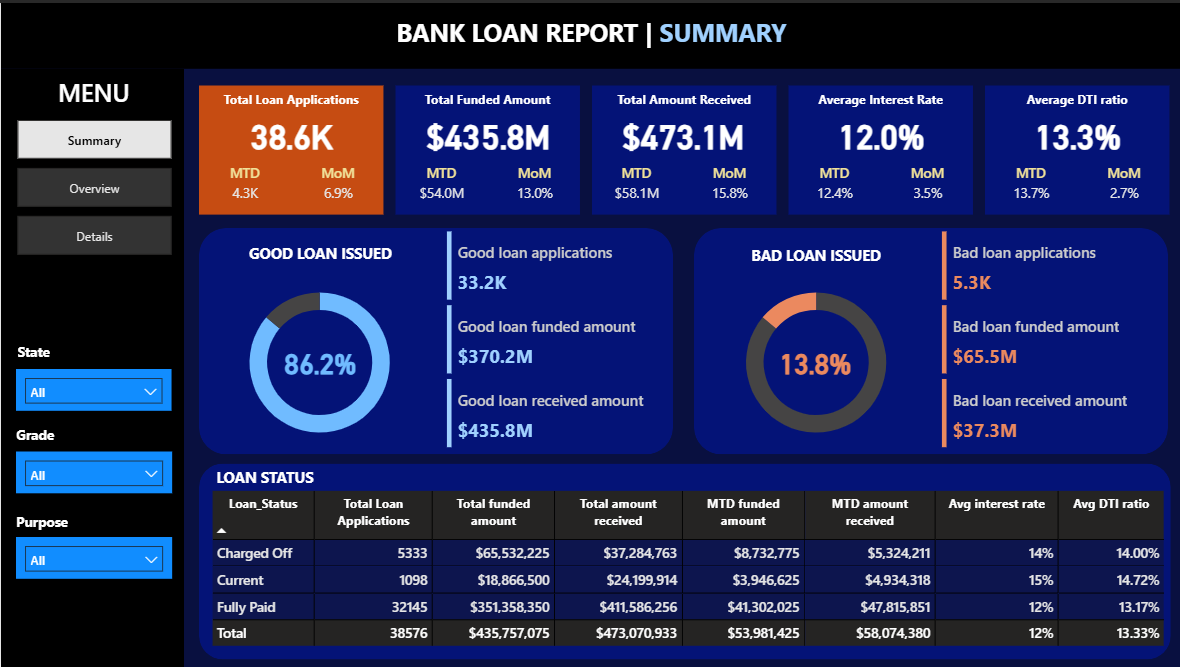

The dashboard page shown, as its layout file describes it:
{"tool":"powerbi","page":{"name":"Summary","canvas":[1280,720],"ordinal":0},"visuals":[{"type":"shape","box":[0,0,1280.1,71.6],"z":0},{"type":"shape","box":[0,71.6,198.4,649],"z":1000},{"type":"textbox","box":[366,8.1,548.1,53.7],"z":2000},{"type":"textbox","box":[214.3,89.2,200,140],"z":3000},{"type":"card","fields":{"Values":["bankdata loandata.Total Loan Applications"]},"box":[225.5,118,177.5,46.2],"z":4000},{"type":"card","title":"MTD","fields":{"Values":["bankdata loandata.MTD loan applications"]},"box":[225.5,173.8,76.7,46.7],"z":5000},{"type":"card","title":"MoM","fields":{"Values":["bankdata loandata.MoM loan applications"]},"box":[326.4,173.8,76.7,46.7],"z":6000},{"type":"textbox","box":[428,89.3,200,140],"z":7000},{"type":"card","fields":{"Values":["bankdata loandata.Total funded amount"]},"box":[439.7,118,177.5,46.7],"z":8000},{"type":"card","title":"MTD","fields":{"Values":["bankdata loandata.MTD funded amount"]},"box":[439.7,173.8,76.7,46.7],"z":9000},{"type":"card","title":"MoM","fields":{"Values":["bankdata loandata.MoM funded amount"]},"box":[540.5,173.8,76.7,46.7],"z":10000},{"type":"textbox","box":[640.5,89.4,200,140],"z":11000},{"type":"textbox","box":[853.9,89.5,200,140],"z":12000},{"type":"textbox","box":[1067.2,89.6,200,140],"z":13000},{"type":"card","fields":{"Values":["bankdata loandata.Total amount received"]},"box":[651.4,118,177.5,46.7],"z":14000},{"type":"card","fields":{"Values":["bankdata loandata.Avg interest rate"]},"box":[864.7,118,177.5,46.7],"z":15000},{"type":"card","fields":{"Values":["bankdata loandata.Avg dti ratio"]},"box":[1078,118,177.5,46.7],"z":16000},{"type":"card","title":"MTD","fields":{"Values":["bankdata loandata.MTD amount received"]},"box":[651.4,173.8,76.7,46.7],"z":17000},{"type":"card","title":"MoM","fields":{"Values":["bankdata loandata.MoM amount received"]},"box":[752.2,173.8,76.7,46.7],"z":18000},{"type":"card","title":"MTD","fields":{"Values":["bankdata loandata.MTD interest rate"]},"box":[864.7,173.8,76.7,46.7],"z":19000},{"type":"card","title":"MTD","fields":{"Values":["bankdata loandata.MTD dti"]},"box":[1078,173.8,76.7,46.7],"z":20000},{"type":"card","title":"MoM","fields":{"Values":["bankdata loandata.MoM interest rate"]},"box":[965.5,173.8,76.7,46.7],"z":21000},{"type":"card","title":"MoM","fields":{"Values":["bankdata loandata.MoM"]},"box":[1178.9,173.8,76.7,46.7],"z":22000},{"type":"shape","box":[214.3,243.4,514,245.6],"z":23000},{"type":"shape","box":[751,243.4,514,245.6],"z":24000},{"type":"donutChart","fields":{"Category":["bankdata loandata.Good vs Bad loan"],"Y":["bankdata loandata.Total Loan Applications"]},"box":[213.8,288.8,264.3,200],"z":25000},{"type":"card","fields":{"Values":["bankdata loandata.Good loan %"]},"box":[299.6,366,92.9,45.7],"z":26000},{"type":"textbox","box":[233.8,256,224.3,32.9],"z":27000},{"type":"textbox","box":[771,257.4,225.7,31.4],"z":28000},{"type":"cardVisual","fields":{"Data":["bankdata loandata.Good loan applications","bankdata loandata.Good loan funded amt","bankdata loandata.Good loan received amt"]},"box":[478.1,243.1,250,245.7],"z":29000},{"type":"donutChart","fields":{"Category":["bankdata loandata.Good vs Bad loan"],"Y":["bankdata loandata.Total Loan Applications"]},"box":[751,288.8,264.3,200],"z":30000},{"type":"card","fields":{"Values":["bankdata loandata.Bad loan %"]},"box":[836.7,366,92.9,45.7],"z":31000},{"type":"cardVisual","fields":{"Data":["bankdata loandata.Bad loan applications","bankdata loandata.Bad loan funded amt","bankdata loandata.Bad loan received amt"]},"box":[1015.3,243.1,250,245.7],"z":32000},{"type":"shape","box":[215,500,1053.8,212.5],"z":33000},{"type":"tableEx","fields":{"Values":["bankdata loandata.Loan_Status","bankdata loandata.Total Loan Applications","bankdata loandata.Total funded amount","bankdata loandata.Total amount received","bankdata loandata.MTD funded amount","bankdata loandata.MTD amount received","bankdata loandata.Avg interest rate","bankdata loandata.Avg dti ratio"]},"box":[226.2,527.5,1040,176.2],"z":34000},{"type":"textbox","box":[221.2,497.5,130,32.5],"z":35000},{"type":"slicer","title":"State","fields":{"Values":["bankdata loandata.Address_State"]},"box":[16.7,396.7,168.3,45],"z":36000},{"type":"textbox","box":[12.7,362.7,123.6,33.6],"z":37000},{"type":"slicer","title":"State","fields":{"Values":["bankdata loandata.Grade"]},"box":[16.4,486.4,169.1,45.5],"z":38000},{"type":"textbox","box":[11.8,452.7,123.6,33.6],"z":39000},{"type":"slicer","title":"State","fields":{"Values":["bankdata loandata.Purpose"]},"box":[16.7,579.4,169.1,45.5],"z":40000},{"type":"textbox","box":[12.1,545.8,123.6,33.6],"z":41000},{"type":"textbox","box":[16.2,73.8,168.8,52.5],"z":42000},{"type":"pageNavigator","box":[17.5,126.2,167.5,147.5],"z":43000}]}

Visuals, with their boxes in screenshot pixels (x1, y1, x2, y2), scaled from the page's 1280x720 canvas onto the 1180x667 screenshot:
shape: x1=0 y1=0 x2=1179 y2=66
shape: x1=0 y1=66 x2=183 y2=666
textbox: x1=337 y1=8 x2=843 y2=57
textbox: x1=198 y1=83 x2=382 y2=212
card - bankdata loandata.Total Loan Applications: x1=208 y1=109 x2=372 y2=152
"MTD" card: x1=208 y1=161 x2=279 y2=204
"MoM" card: x1=301 y1=161 x2=372 y2=204
textbox: x1=395 y1=83 x2=579 y2=212
card - bankdata loandata.Total funded amount: x1=405 y1=109 x2=569 y2=153
"MTD" card: x1=405 y1=161 x2=476 y2=204
"MoM" card: x1=498 y1=161 x2=569 y2=204
textbox: x1=590 y1=83 x2=775 y2=213
textbox: x1=787 y1=83 x2=972 y2=213
textbox: x1=984 y1=83 x2=1168 y2=213
card - bankdata loandata.Total amount received: x1=601 y1=109 x2=764 y2=153
card - bankdata loandata.Avg interest rate: x1=797 y1=109 x2=961 y2=153
card - bankdata loandata.Avg dti ratio: x1=994 y1=109 x2=1157 y2=153
"MTD" card: x1=601 y1=161 x2=671 y2=204
"MoM" card: x1=693 y1=161 x2=764 y2=204
"MTD" card: x1=797 y1=161 x2=868 y2=204
"MTD" card: x1=994 y1=161 x2=1064 y2=204
"MoM" card: x1=890 y1=161 x2=961 y2=204
"MoM" card: x1=1087 y1=161 x2=1158 y2=204
shape: x1=198 y1=225 x2=671 y2=453
shape: x1=692 y1=225 x2=1166 y2=453
donutChart - bankdata loandata.Good vs Bad loan x bankdata loandata.Total Loan Applications: x1=197 y1=268 x2=441 y2=453
card - bankdata loandata.Good loan %: x1=276 y1=339 x2=362 y2=381
textbox: x1=216 y1=237 x2=422 y2=268
textbox: x1=711 y1=238 x2=919 y2=268
cardVisual - bankdata loandata.Good loan applications x bankdata loandata.Good loan funded amt: x1=441 y1=225 x2=671 y2=453
donutChart - bankdata loandata.Good vs Bad loan x bankdata loandata.Total Loan Applications: x1=692 y1=268 x2=936 y2=453
card - bankdata loandata.Bad loan %: x1=771 y1=339 x2=857 y2=381
cardVisual - bankdata loandata.Bad loan applications x bankdata loandata.Bad loan funded amt: x1=936 y1=225 x2=1166 y2=453
shape: x1=198 y1=463 x2=1170 y2=660
tableEx - bankdata loandata.Loan_Status x bankdata loandata.Total Loan Applications: x1=209 y1=489 x2=1167 y2=652
textbox: x1=204 y1=461 x2=324 y2=491
"State" slicer: x1=15 y1=367 x2=171 y2=409
textbox: x1=12 y1=336 x2=126 y2=367
"State" slicer: x1=15 y1=451 x2=171 y2=493
textbox: x1=11 y1=419 x2=125 y2=451
"State" slicer: x1=15 y1=537 x2=171 y2=579
textbox: x1=11 y1=506 x2=125 y2=537
textbox: x1=15 y1=68 x2=171 y2=117
pageNavigator: x1=16 y1=117 x2=171 y2=254
